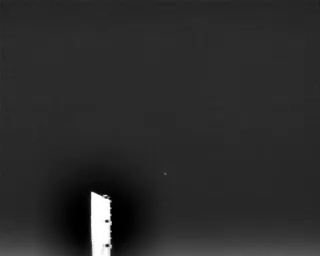BIRD: (161, 169, 169, 179)
